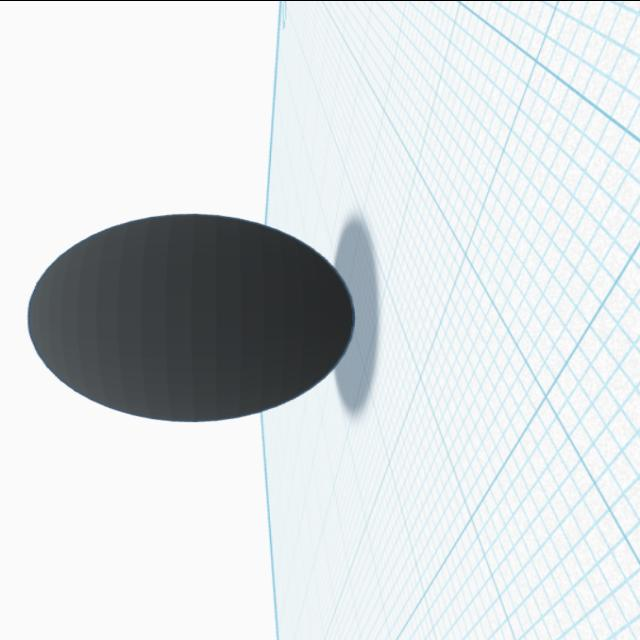sphere: (22, 205, 363, 428)
